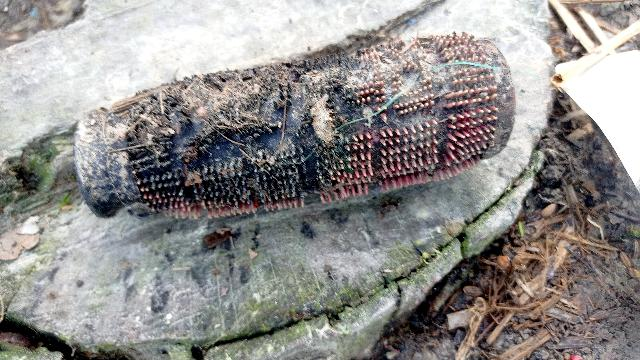hardplastic: (63, 20, 515, 239)
